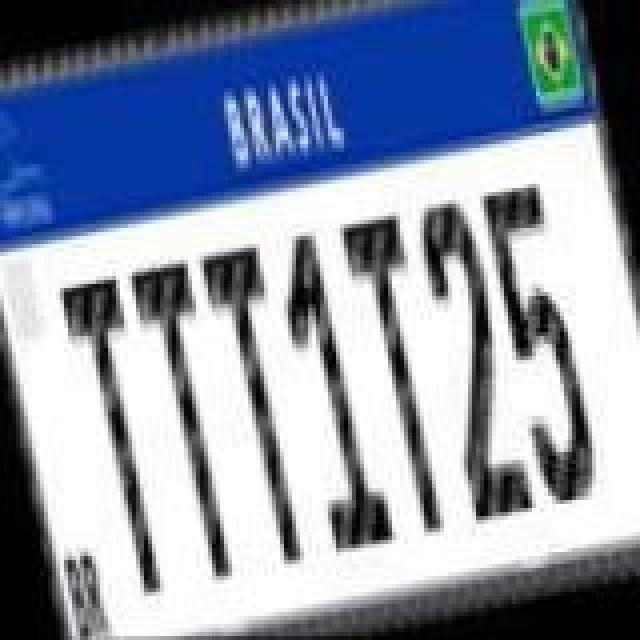1: (264, 220, 396, 560)
2: (408, 194, 536, 534)
5: (476, 174, 604, 514)
T: (60, 268, 184, 604), (132, 254, 256, 586), (196, 242, 320, 574), (338, 206, 462, 538)
